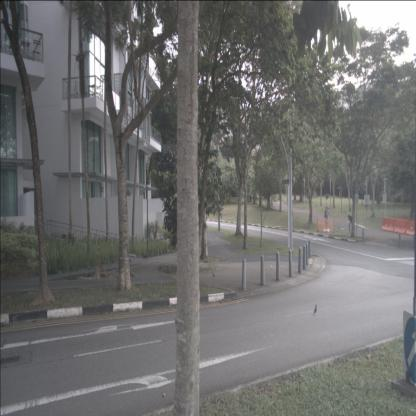barrier: (394, 218, 407, 235), (382, 217, 395, 232), (405, 221, 415, 236)
